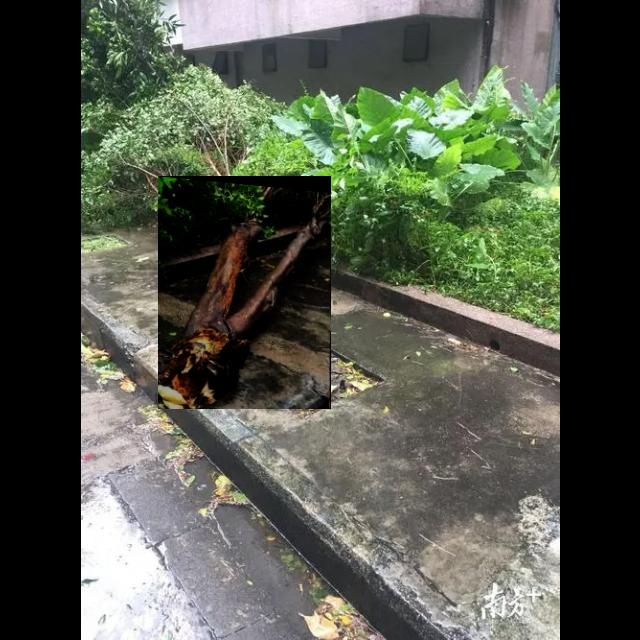Fallen Tree: (158, 176, 332, 410)
